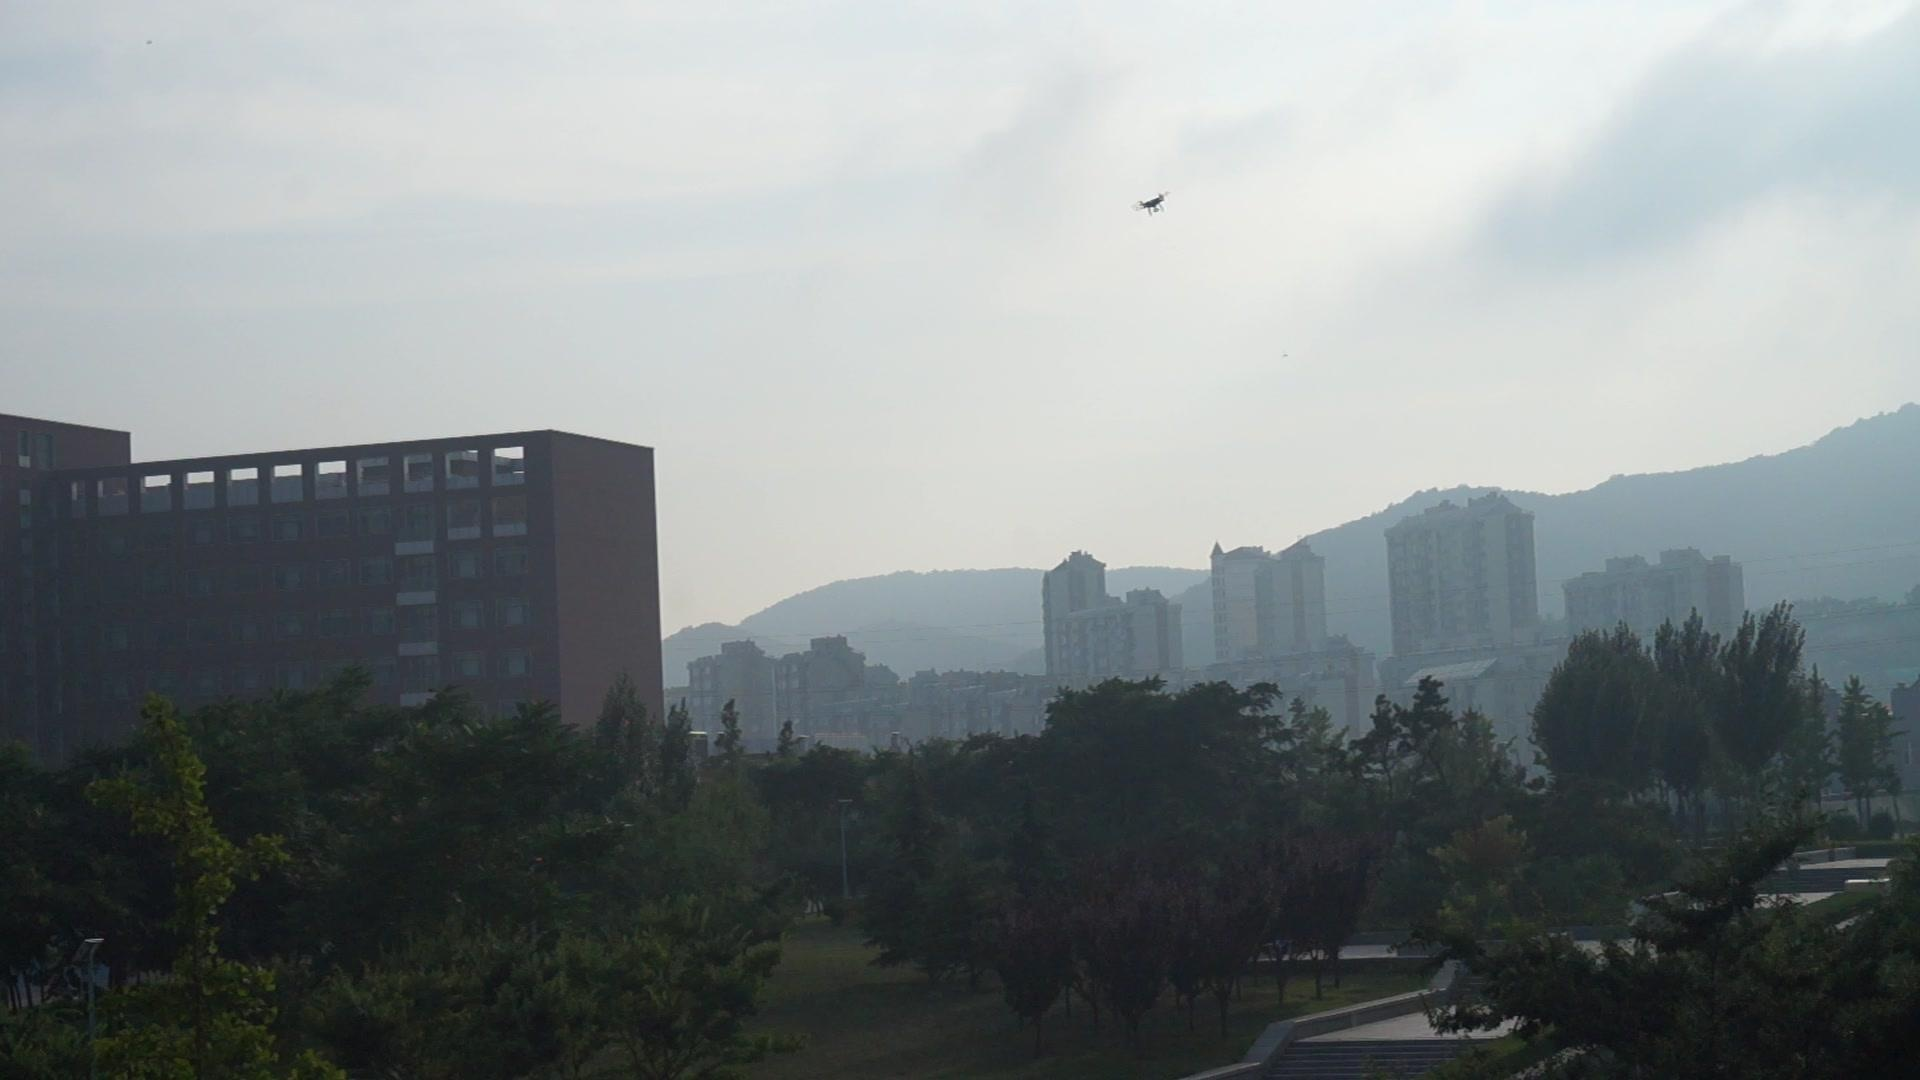UAV: (1133, 193, 1172, 216)
